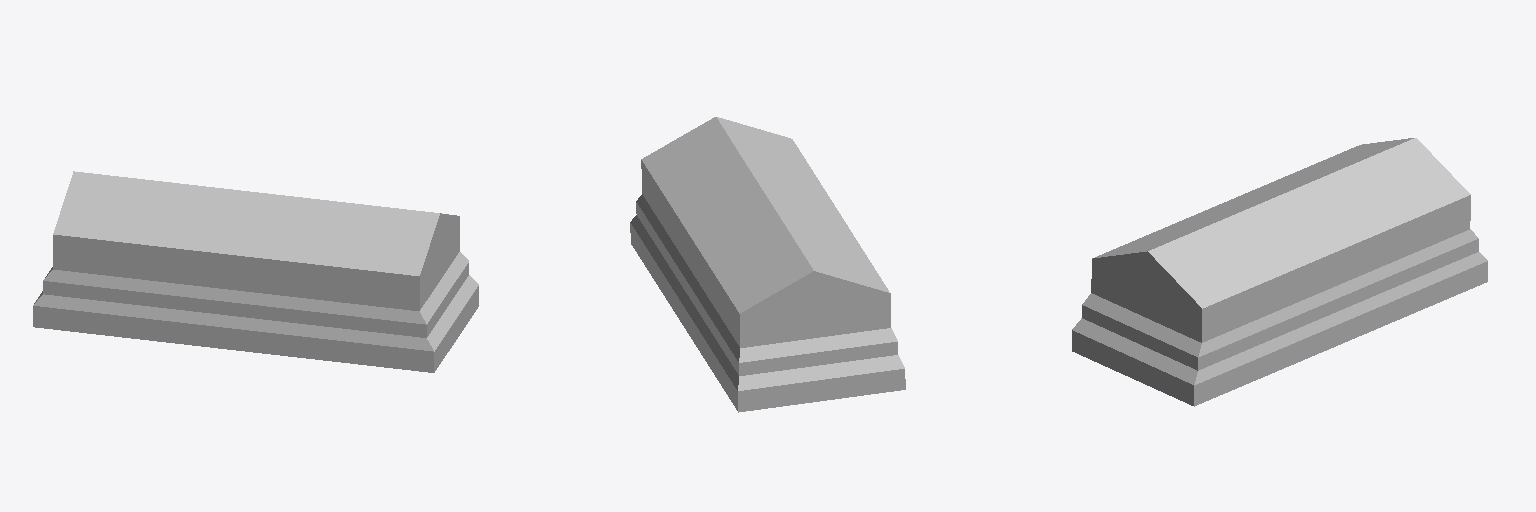
The model's file is Gravestone_Flat_3.obj.
The picture shows the model from 3 angles: view 1: azimuth 30°, elevation 25°; view 2: azimuth 150°, elevation 25°; view 3: azimuth 270°, elevation 25°; orthographic projection.
Visible parts, largest first — view 1: Gravestone_Flat_3; view 2: Gravestone_Flat_3; view 3: Gravestone_Flat_3.
Part boxes in pixels (x1,y1,x2,y2): Gravestone_Flat_3: (33, 171, 478, 372); Gravestone_Flat_3: (630, 117, 905, 412); Gravestone_Flat_3: (1072, 138, 1487, 406).
Bounding box in the file's own units: 1.14 × 0.377 × 1.14.